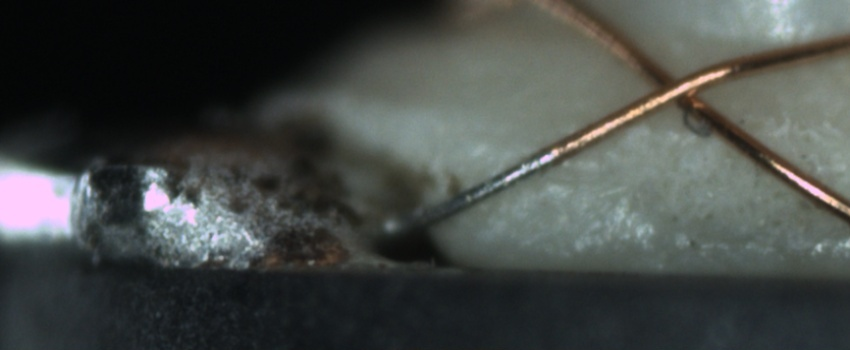CL: (629, 54, 721, 120)
DL: (520, 146, 606, 195)
TS: (377, 149, 556, 240)
